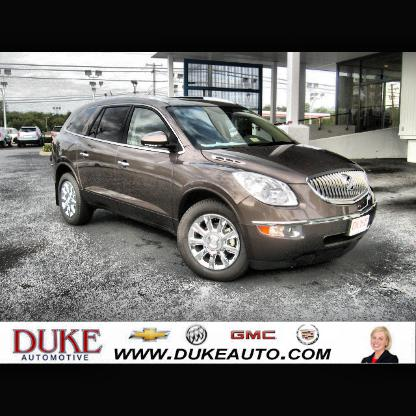Buick Enclave SUV 2012: (49, 97, 379, 284)
